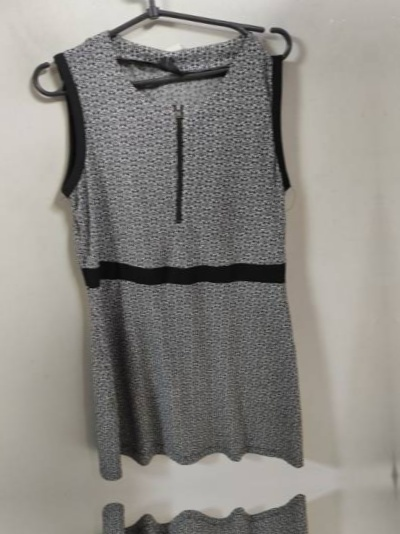Dress: (46, 4, 351, 489), (74, 484, 379, 534)
